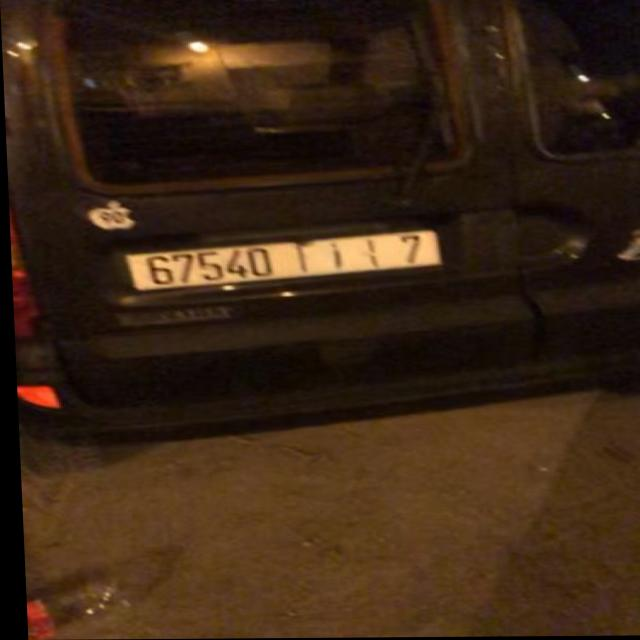License-Plate: (123, 230, 437, 290)
